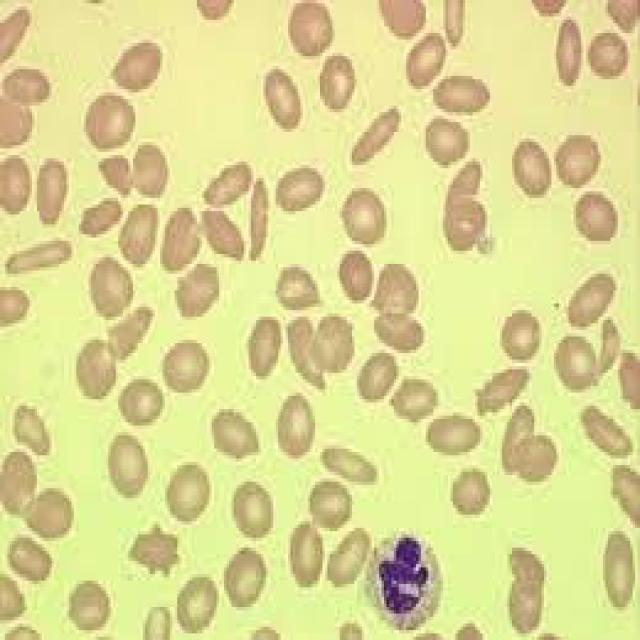RBC: (251, 60, 313, 138), (111, 36, 175, 106), (79, 86, 140, 155), (544, 3, 586, 102), (207, 402, 266, 472), (217, 541, 276, 610), (546, 125, 610, 188), (571, 184, 628, 250), (230, 471, 279, 547), (313, 310, 364, 383), (399, 26, 450, 99), (430, 69, 500, 122), (101, 426, 148, 504), (421, 409, 490, 462), (162, 459, 212, 531), (20, 482, 81, 541), (600, 524, 640, 610), (509, 135, 558, 205), (243, 310, 286, 389), (119, 373, 168, 442), (549, 327, 603, 389), (276, 389, 320, 465), (72, 340, 120, 409), (421, 112, 475, 172), (340, 184, 389, 250), (160, 330, 212, 392), (354, 343, 402, 409), (312, 50, 360, 116), (495, 307, 546, 369), (581, 26, 640, 76), (286, 521, 328, 591), (392, 376, 438, 422)
WBC: (354, 521, 448, 640)
sickle cell: (347, 102, 409, 175), (243, 168, 276, 267), (2, 238, 79, 277)
